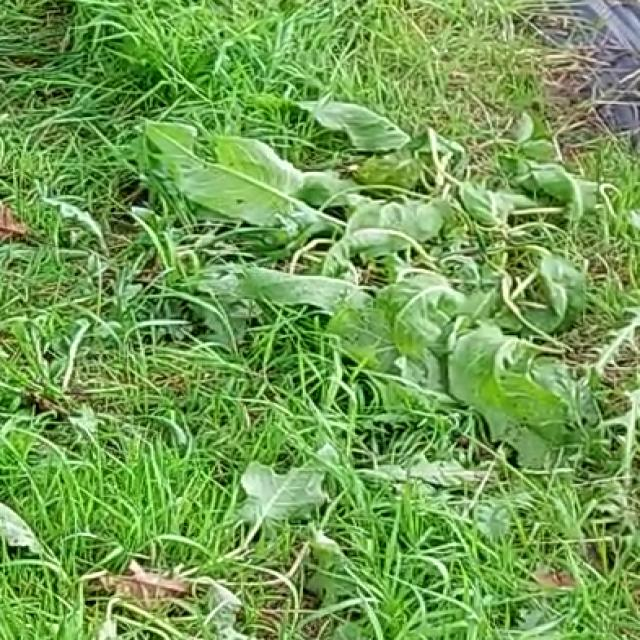organic waste: (160, 84, 624, 456)
